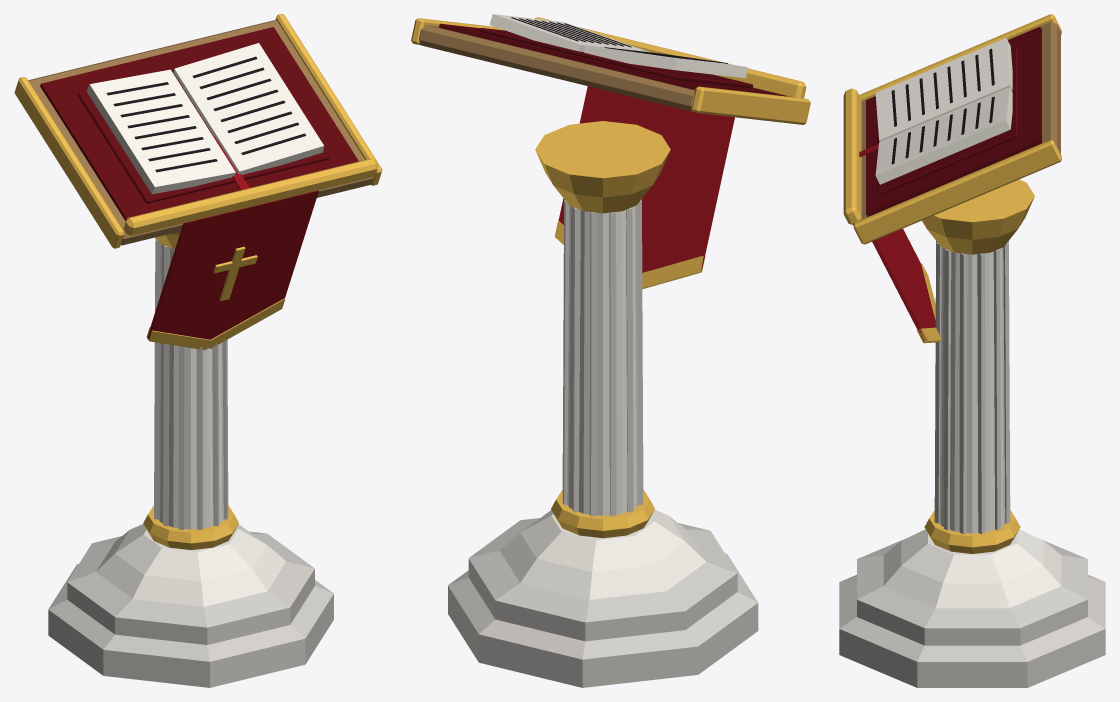
Rendered from lectern.obj.
3 views of the same model, side by side, from view 1: azimuth 30°, elevation 25°; view 2: azimuth 150°, elevation 25°; view 3: azimuth 270°, elevation 25° (orthographic). The views are drawn at different scales.
Parts seen in each view (by area): view 1: lathe, slab, box.001, box.007, lathe.001, box.006, lathe.002, box, box.002, box.003, box.005, lathe.015 (+8 smaller); view 2: lathe, lathe.002, slab, lathe.001, lathe.016, box, box.003, lathe.015, lathe.007, box.007, lathe.005, lathe.006 (+8 smaller); view 3: lathe, lathe.002, lathe.001, box.001, box.006, box.007, box.004, lathe.016, slab, box, box.002, lathe.003 (+9 smaller).
Boxes of the visible parts, bbox=[...] form: lathe: bbox=[48, 531, 333, 687]; slab: bbox=[147, 190, 318, 339]; box.001: bbox=[40, 27, 358, 221]; box.007: bbox=[173, 43, 323, 174]; lathe.001: bbox=[96, 524, 285, 606]; box.006: bbox=[86, 69, 235, 194]; lathe.002: bbox=[158, 244, 223, 529]; box: bbox=[28, 20, 374, 245]; box.002: bbox=[123, 158, 378, 235]; box.003: bbox=[14, 77, 124, 248]; box.005: bbox=[77, 69, 329, 203]; lathe.015: bbox=[143, 505, 238, 549]; lathe: bbox=[448, 518, 758, 687]; lathe.002: bbox=[567, 205, 638, 515]; slab: bbox=[558, 86, 734, 272]; lathe.001: bbox=[499, 509, 705, 599]; lathe.016: bbox=[535, 121, 670, 213]; box: bbox=[419, 25, 694, 111]; box.003: bbox=[691, 86, 810, 124]; lathe.015: bbox=[551, 489, 654, 538]; lathe.007: bbox=[609, 212, 616, 516]; box.007: bbox=[489, 14, 649, 52]; lathe.005: bbox=[572, 207, 580, 512]; lathe.006: bbox=[589, 212, 597, 516]; lathe: bbox=[839, 538, 1105, 687]; lathe.002: bbox=[939, 247, 1005, 533]; lathe.001: bbox=[883, 529, 1061, 608]; box.001: bbox=[866, 27, 1041, 216]; box.006: bbox=[875, 38, 1012, 141]; box.007: bbox=[875, 87, 1012, 184]; box.004: bbox=[853, 140, 1061, 244]; lathe.016: bbox=[922, 179, 1034, 254]; slab: bbox=[872, 228, 935, 341]; box: bbox=[861, 22, 1060, 219]; box.002: bbox=[843, 88, 861, 225]; lathe.003: bbox=[977, 253, 985, 534].
Bounding box in the file's own units: 0.64 × 1.27 × 0.5543.
